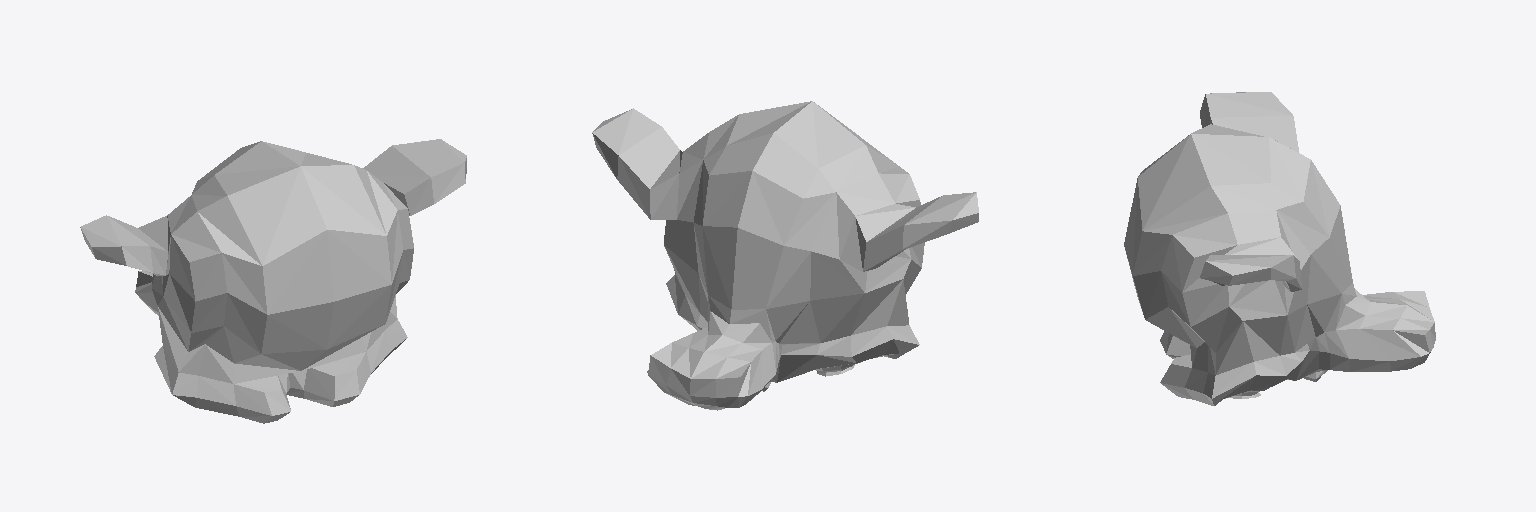
File: monkey.obj
3 renders of one model, left to right at view 1: azimuth 30°, elevation 25°; view 2: azimuth 150°, elevation 25°; view 3: azimuth 270°, elevation 25°, orthographic.
Parts seen in each view (by area): view 1: Suzanne; view 2: Suzanne; view 3: Suzanne.
Boxes of the visible parts, box(x1,y1,x2,y2) form: Suzanne: box(80, 139, 466, 423); Suzanne: box(592, 101, 978, 410); Suzanne: box(1124, 92, 1435, 405).
Size of the model in its own units: 2.73 by 1.7 by 1.97.